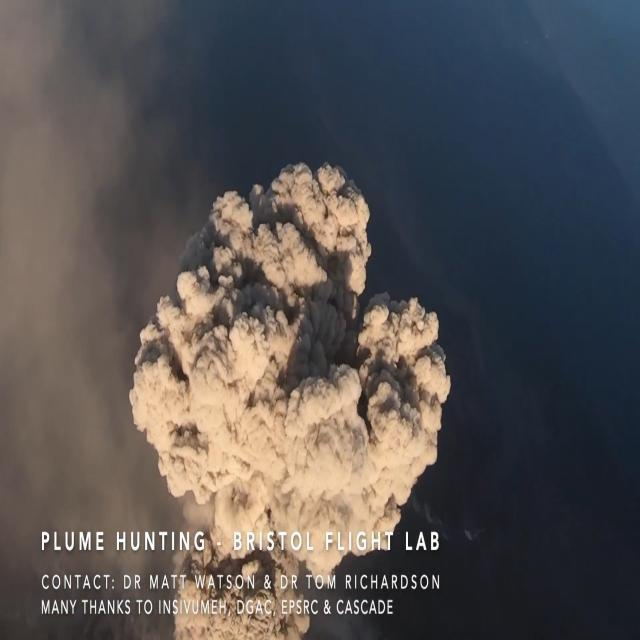Plume: (130, 160, 454, 640)
